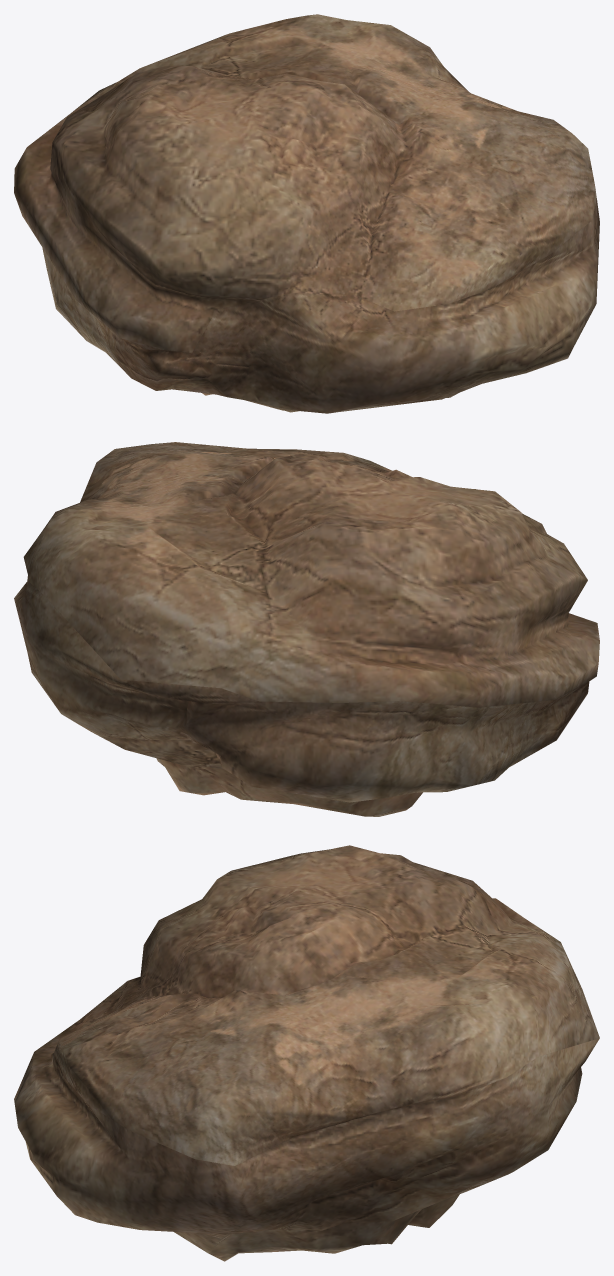
Rendered from rock_small03.dae.
The picture shows the model from 3 angles, top to bottom: view 1: azimuth 30°, elevation 25°; view 2: azimuth 150°, elevation 25°; view 3: azimuth 270°, elevation 25°; orthographic projection. The views are drawn at different scales.
Visible parts, largest first — view 1: Mesh_01; view 2: Mesh_01; view 3: Mesh_01.
Boxes of the visible parts, x1,y1,x2,y2 form: Mesh_01: (14,14,599,413); Mesh_01: (14,442,599,816); Mesh_01: (14,845,599,1261).
Bounding box in the file's own units: 3.01 × 1.76 × 3.09.
